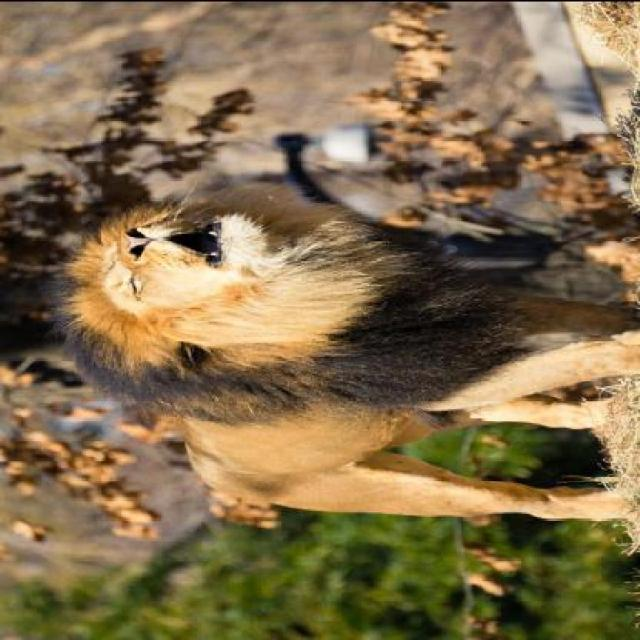Lion: (43, 177, 639, 537)
